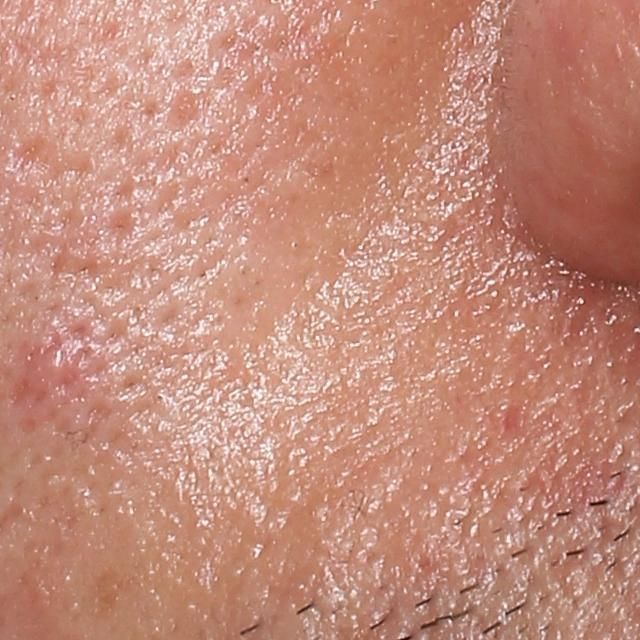atrophic_scar: (2, 134, 51, 175), (164, 88, 202, 132), (104, 205, 138, 251)
